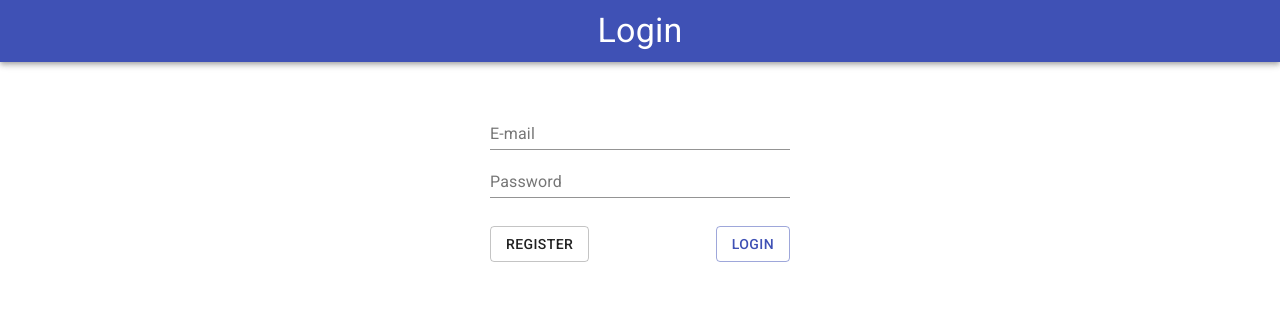
Scenario: App component › renders Register page upon user click
Click the button with test id "go-to-register".
click(540, 244)  # box x1=490 y1=226 x2=589 y2=262
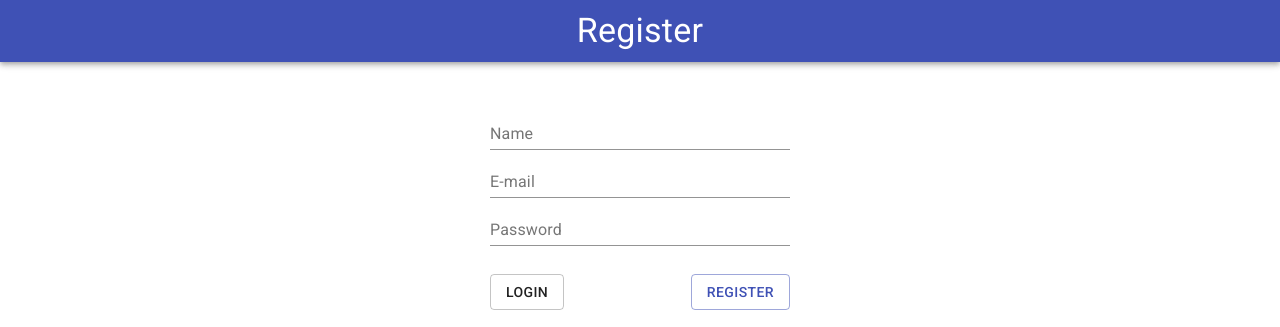
expect the heading with test id "register-heading" reads "Register": met, box x1=577 y1=10 x2=703 y2=50
